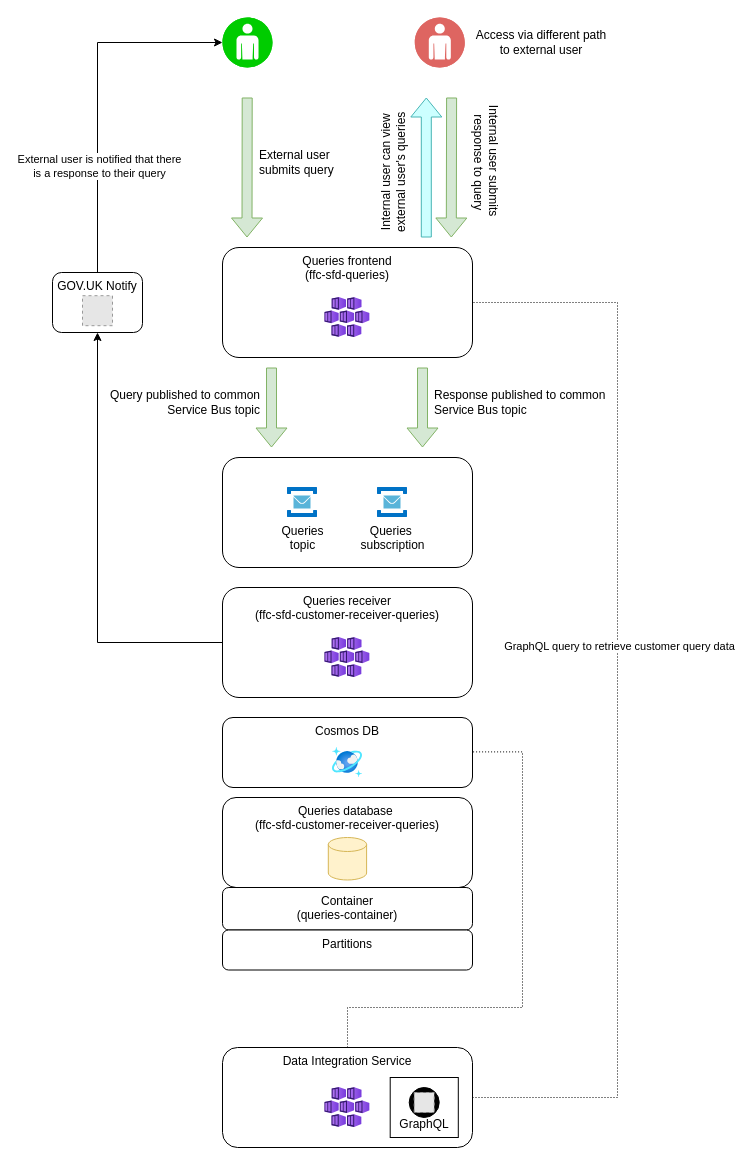
This 752x1165 diagram has some shape labels left out. Grey dashed boxes stand in for pictures. Each missing label, with the centre of its shape:
External user: point 247,42
Internal user: point 439,42
